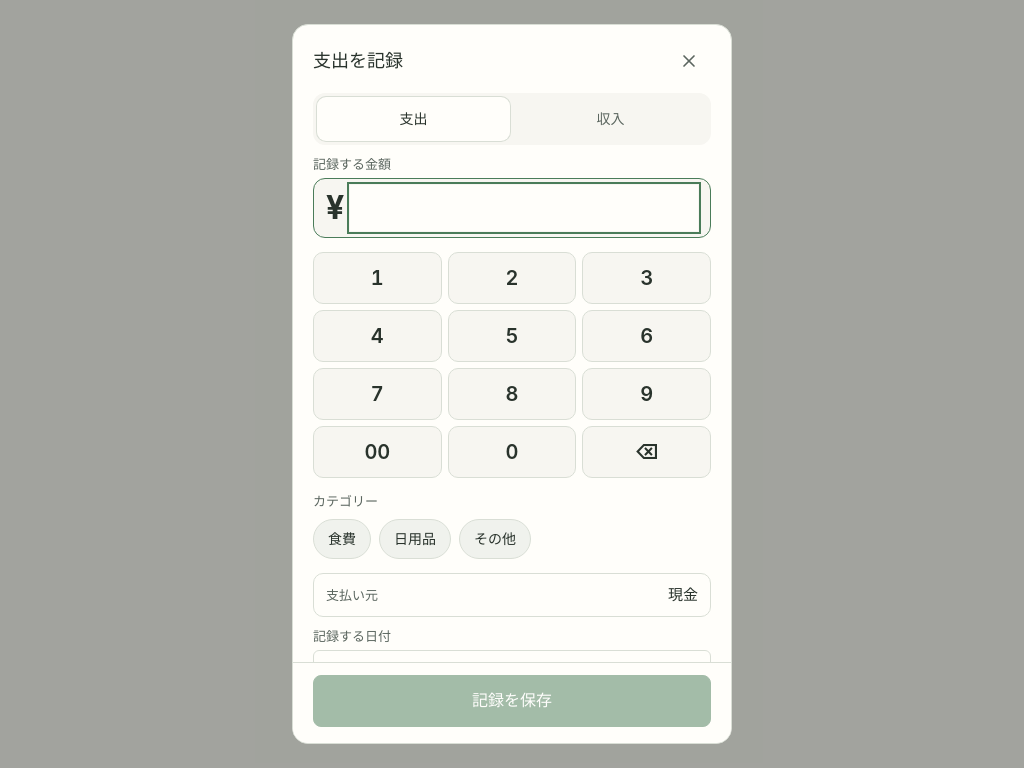
Test: QuickAddSheet › updates the amount from the on-screen keypad
The width and height of the screenshot is (1024, 768).
Click the button "1": point(377, 278) [313,252,442,304]
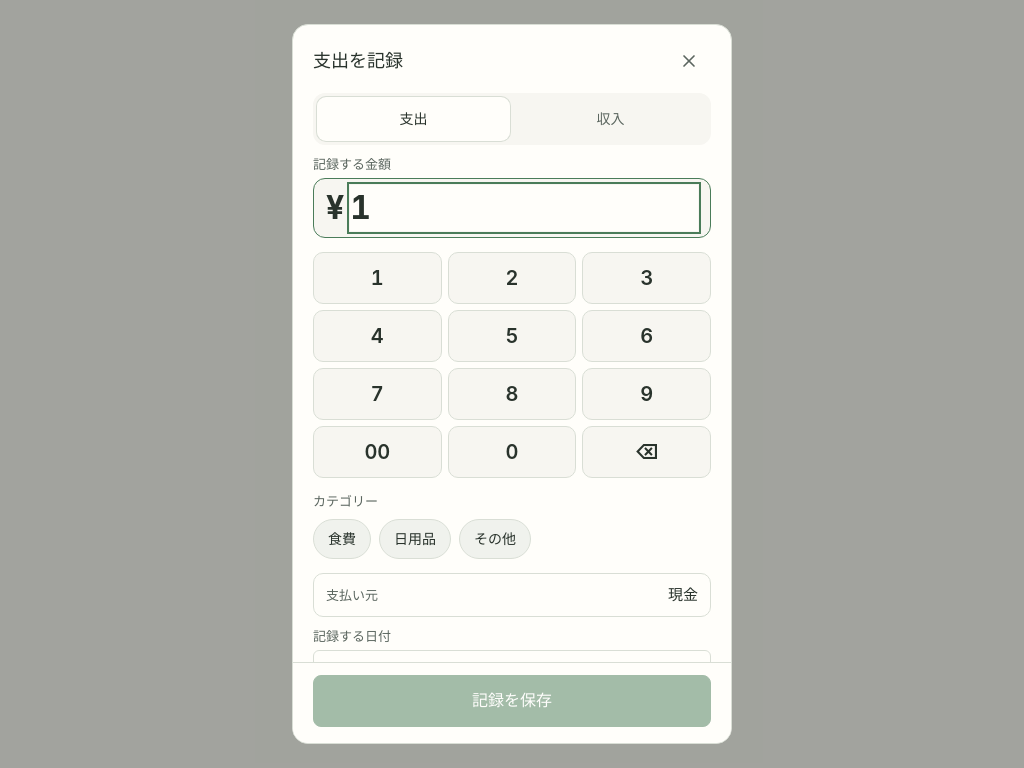
Click the button "2": point(512, 278) [448,252,576,304]
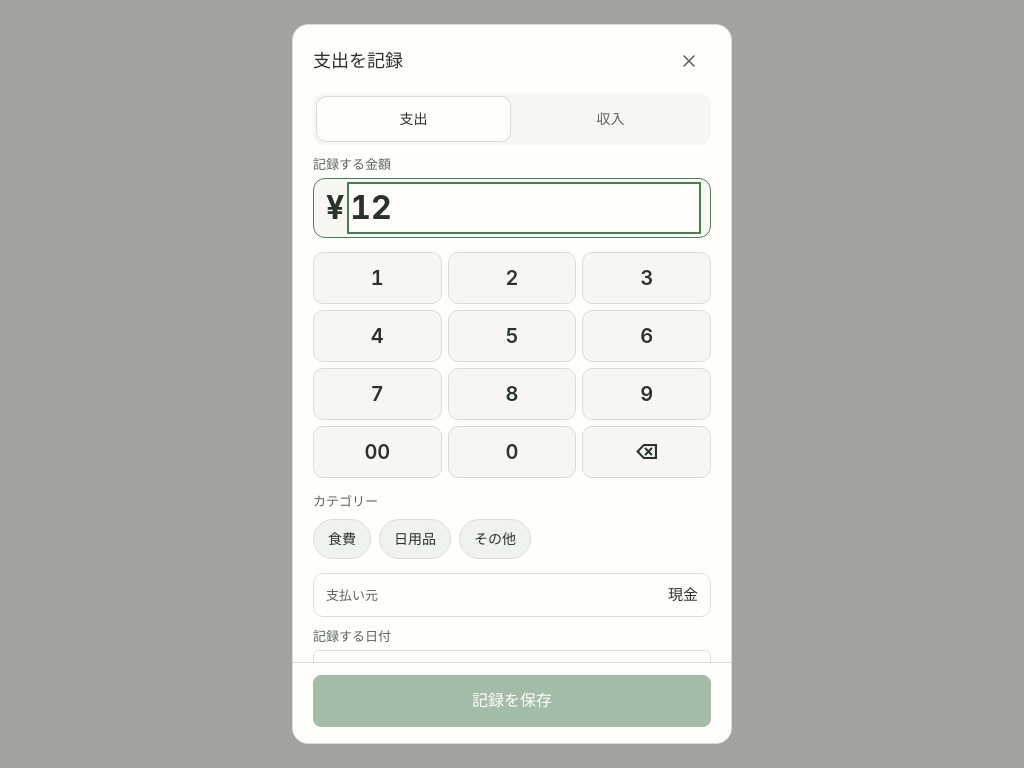
Click the button "8": point(512, 394) [448,368,576,420]
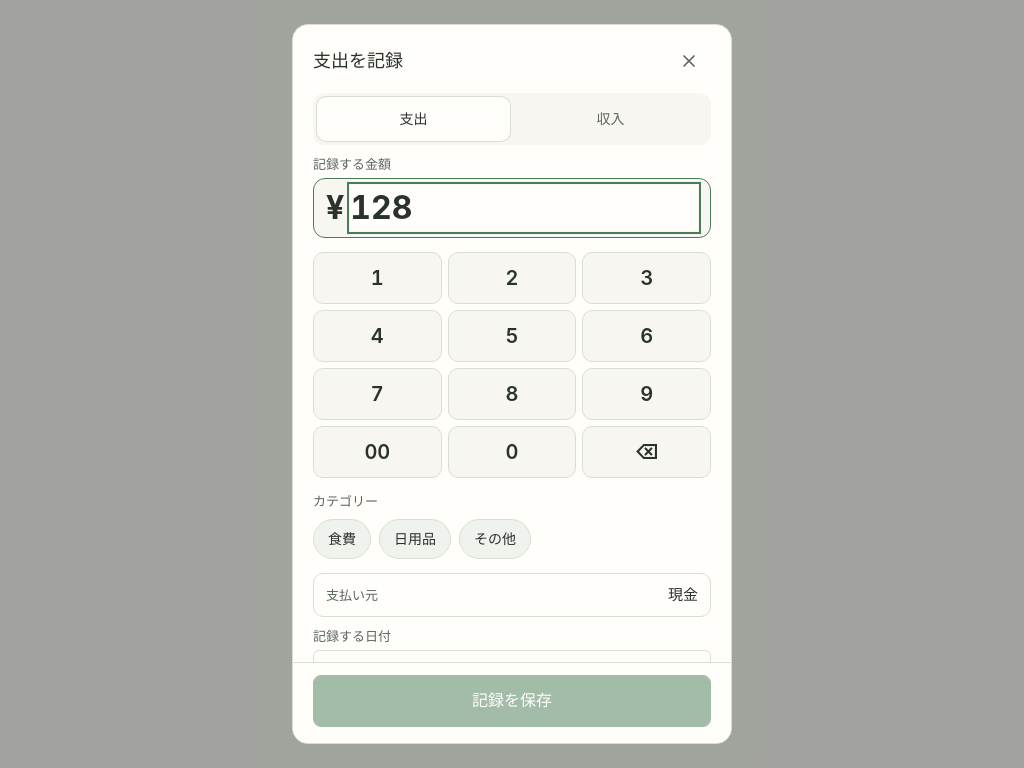
Click the button "0": point(512, 452) [448,426,576,478]
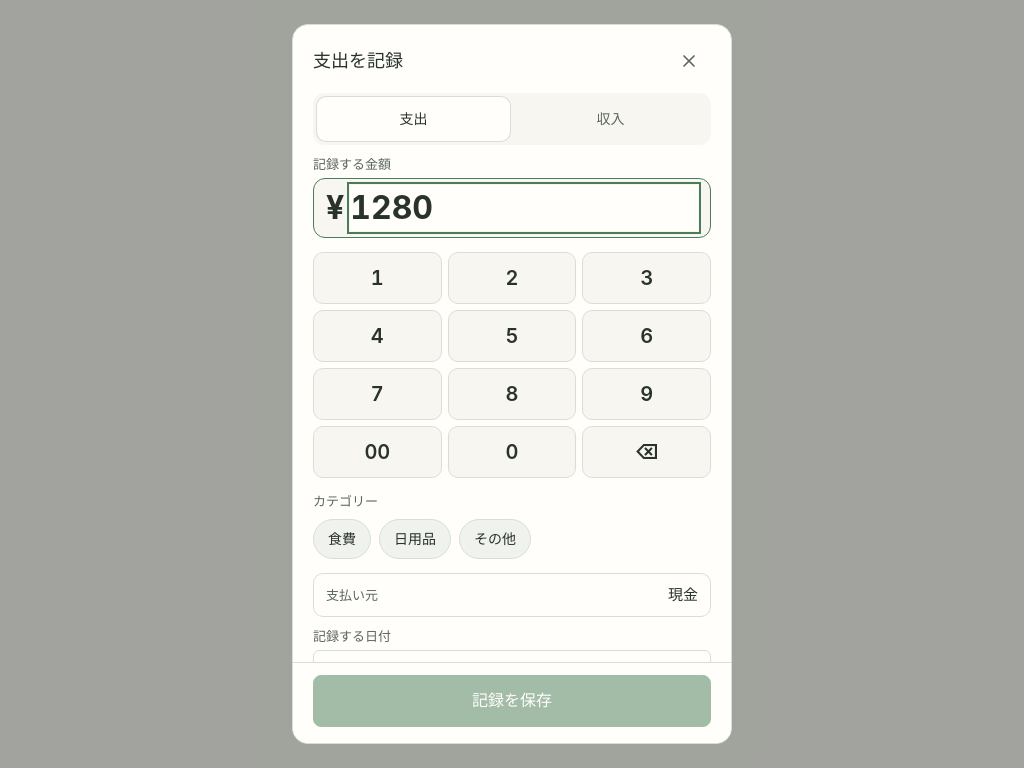
Result: the field labelled "記録する金額" holds "1280" at [350,185,698,231]
Click the button named "1文字削除": point(647, 452) [582,426,711,478]
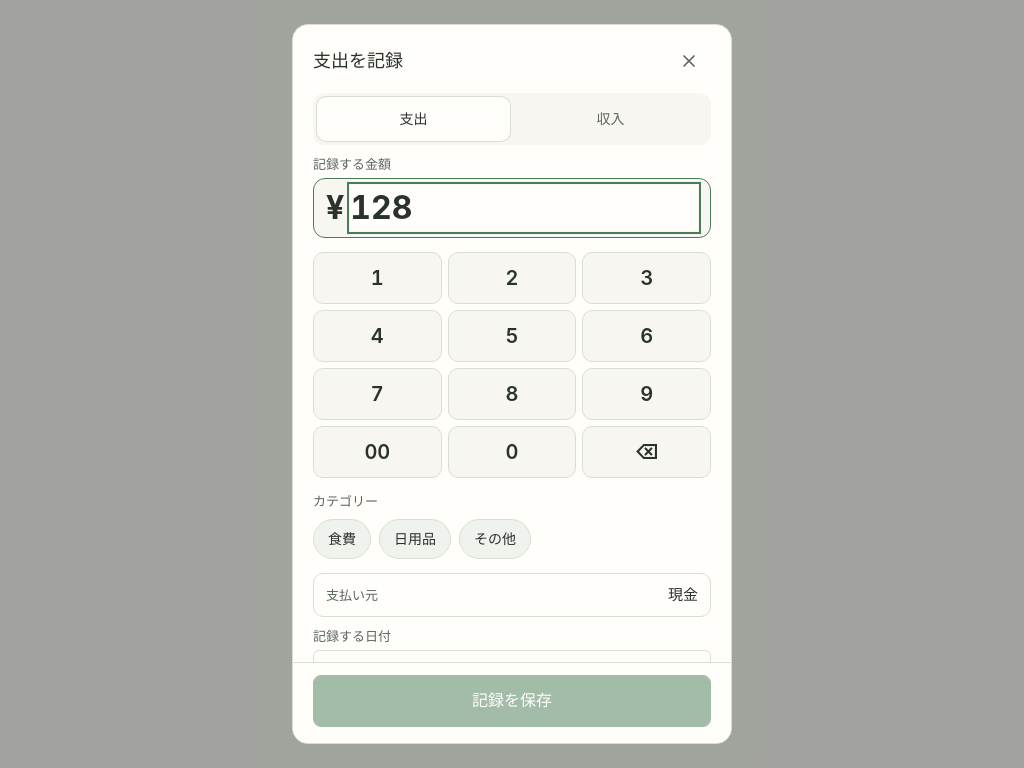
Result: the field labelled "記録する金額" holds "128" at [350,185,698,231]
